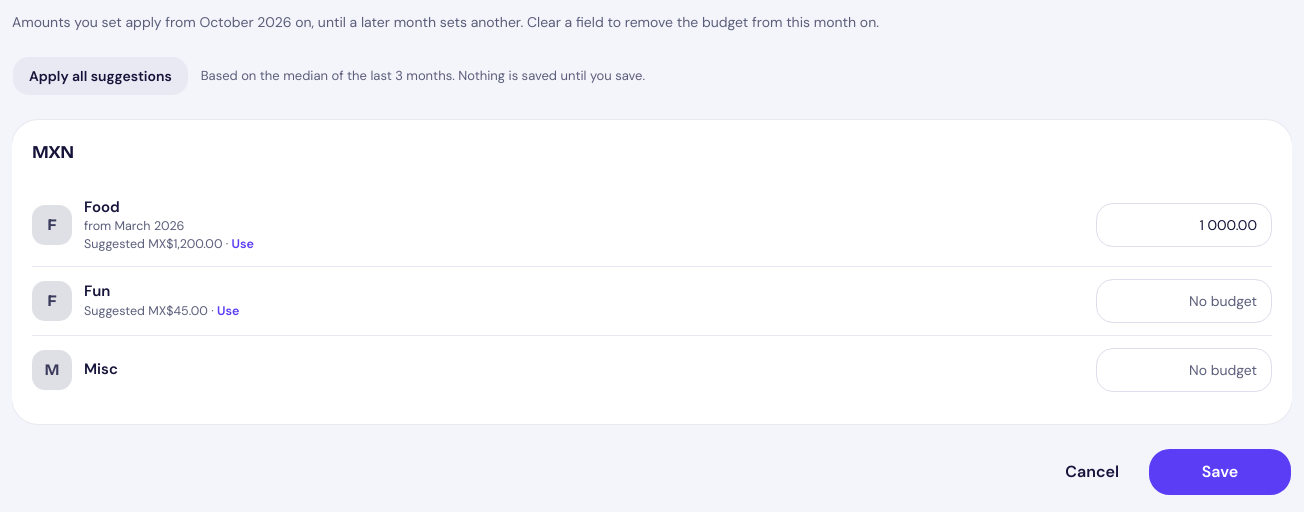
Test: BudgetEditor › fills a field with its suggestion without saving
The image size is (1304, 512).
Click the button with aria-label "Use the suggestion for Fun" at (228, 312), box [217,303,239,320]
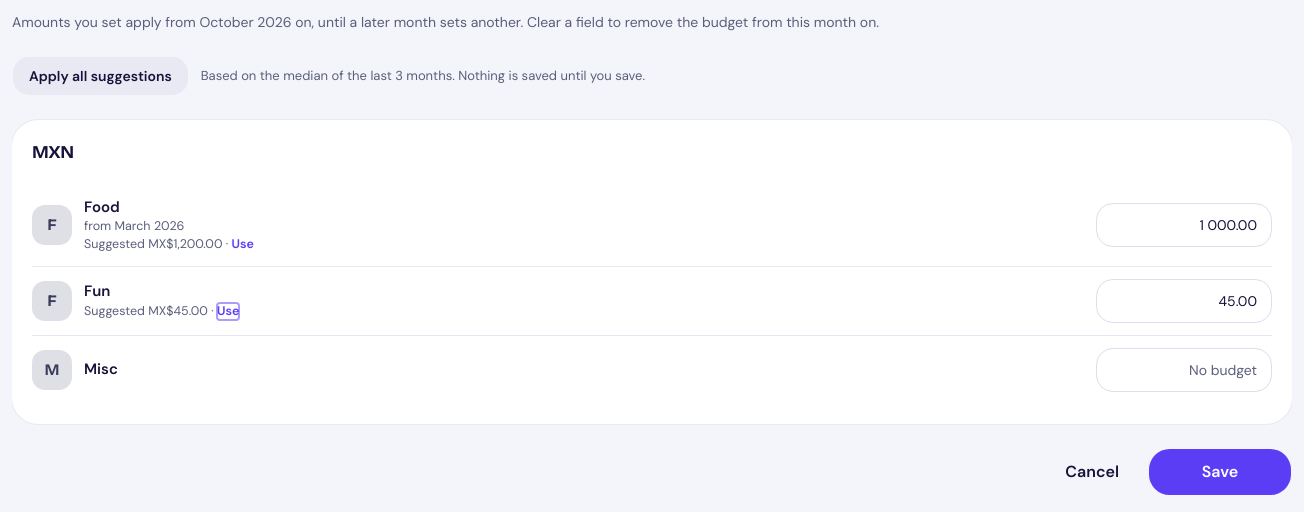
Expected: the field labelled "Fun" holds "45.00", [1096,279,1272,323]
